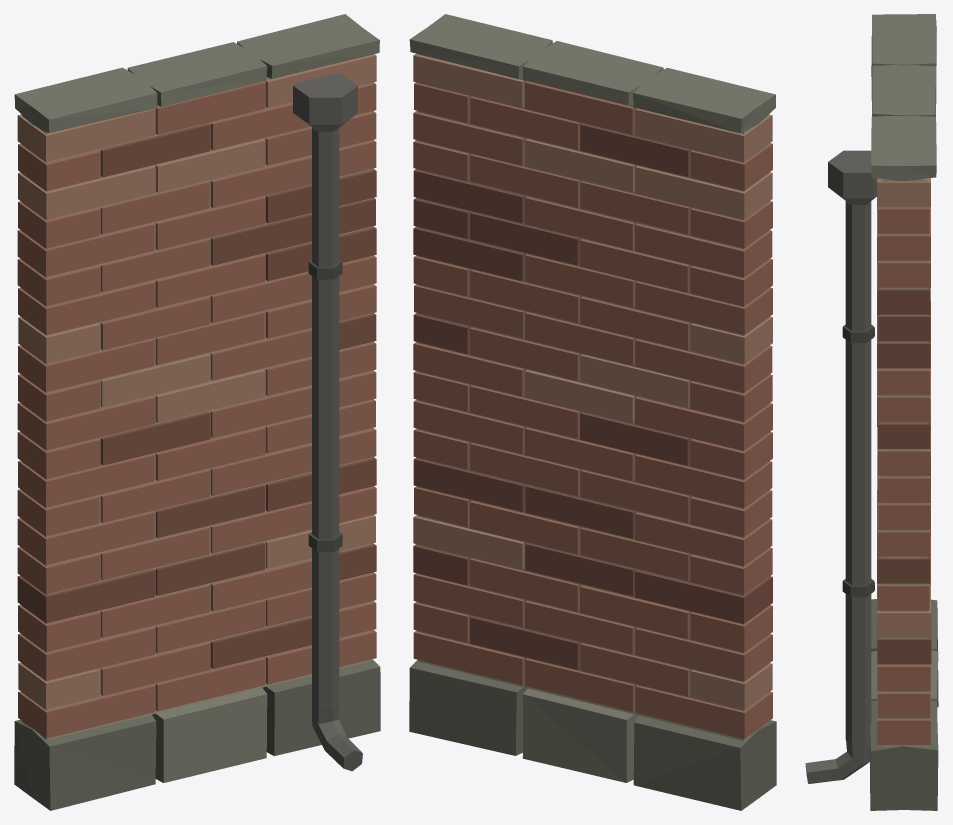
Rendered from wall_brick_drain.glb.
3 renders of one model, left to right at view 1: azimuth 30°, elevation 25°; view 2: azimuth 150°, elevation 25°; view 3: azimuth 270°, elevation 25°, orthographic. The views are drawn at different scales.
Visible parts, largest first — view 1: Wall_Brick_Drain; view 2: Wall_Brick_Drain; view 3: Wall_Brick_Drain.
Part boxes in pixels (x1,y1,x2,y2): Wall_Brick_Drain: (14,14,380,810); Wall_Brick_Drain: (409,14,776,810); Wall_Brick_Drain: (805,14,938,810).
Bounding box in the file's own units: 1.52 × 3.05 × 0.5681.
